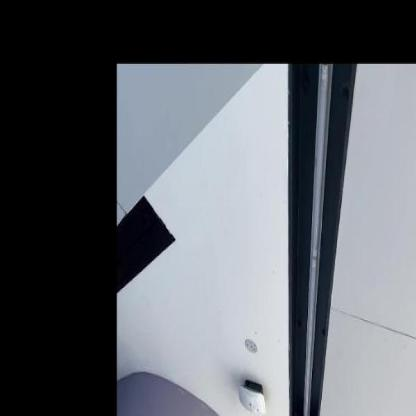light_off: (296, 66, 343, 415)
